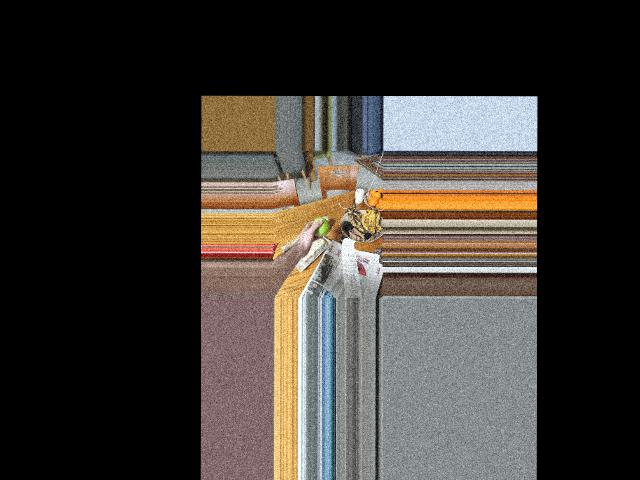apple: (309, 216, 328, 238)
